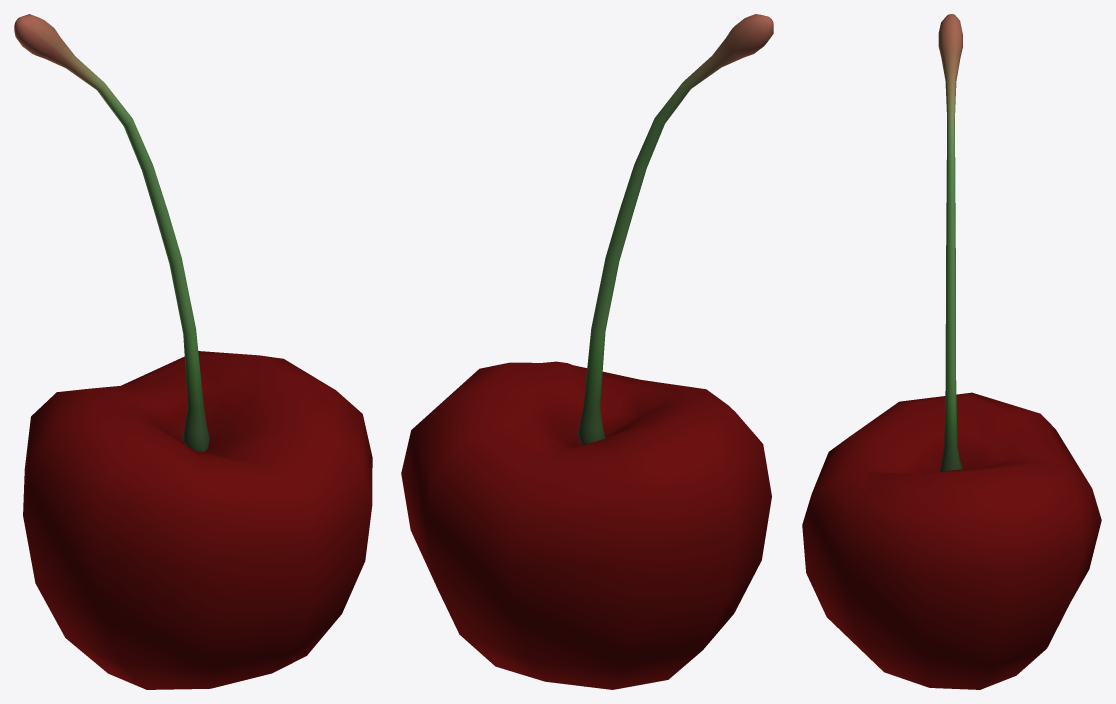
File: cherry3.fbx
The picture shows the model from 3 angles, left to right: view 1: azimuth 30°, elevation 25°; view 2: azimuth 150°, elevation 25°; view 3: azimuth 270°, elevation 25°; orthographic projection. The views are drawn at different scales.
Parts seen in each view (by area): view 1: 체리2.003; view 2: 체리2.003; view 3: 체리2.003.
Part boxes in pixels (x1,y1,x2,y2): 체리2.003: (14, 14, 372, 689); 체리2.003: (401, 14, 773, 689); 체리2.003: (802, 14, 1101, 689).
Size of the model in its own units: 185 by 358 by 168.
